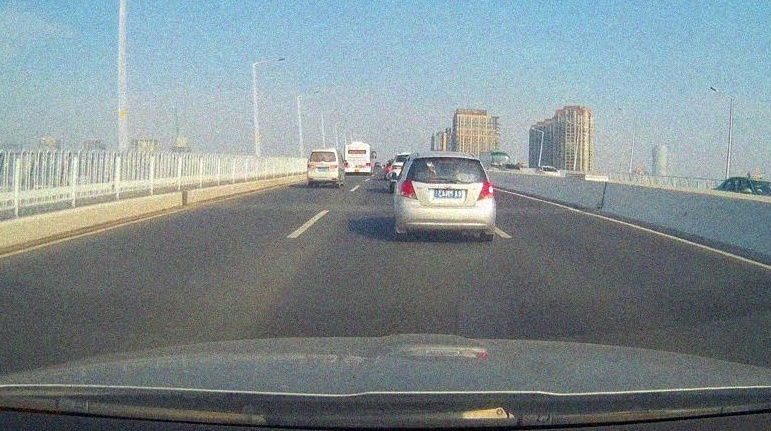L_light: (399, 180, 418, 200), (307, 164, 314, 168), (344, 163, 349, 166)
R_light: (477, 181, 494, 201), (330, 164, 338, 168), (365, 162, 371, 166)
T_light: (440, 157, 454, 161), (320, 151, 325, 153), (355, 145, 359, 146)
day-no: (307, 149, 338, 188), (344, 142, 371, 176)
day-right: (395, 151, 496, 241)
